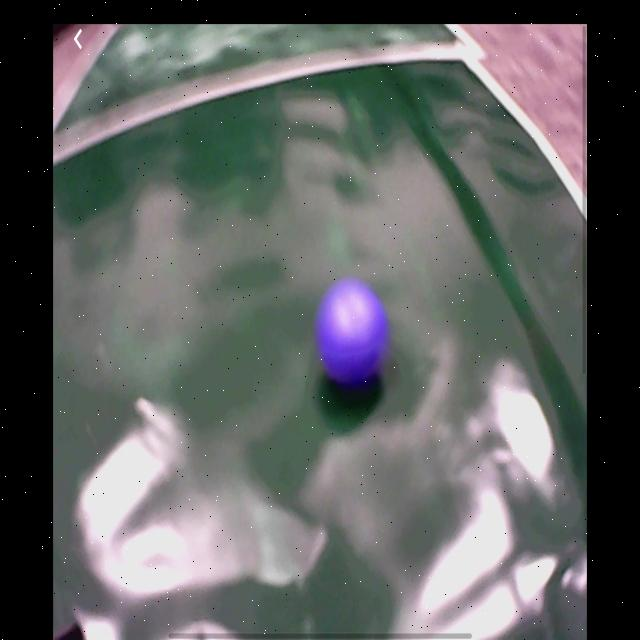ball: (317, 277, 391, 393)
